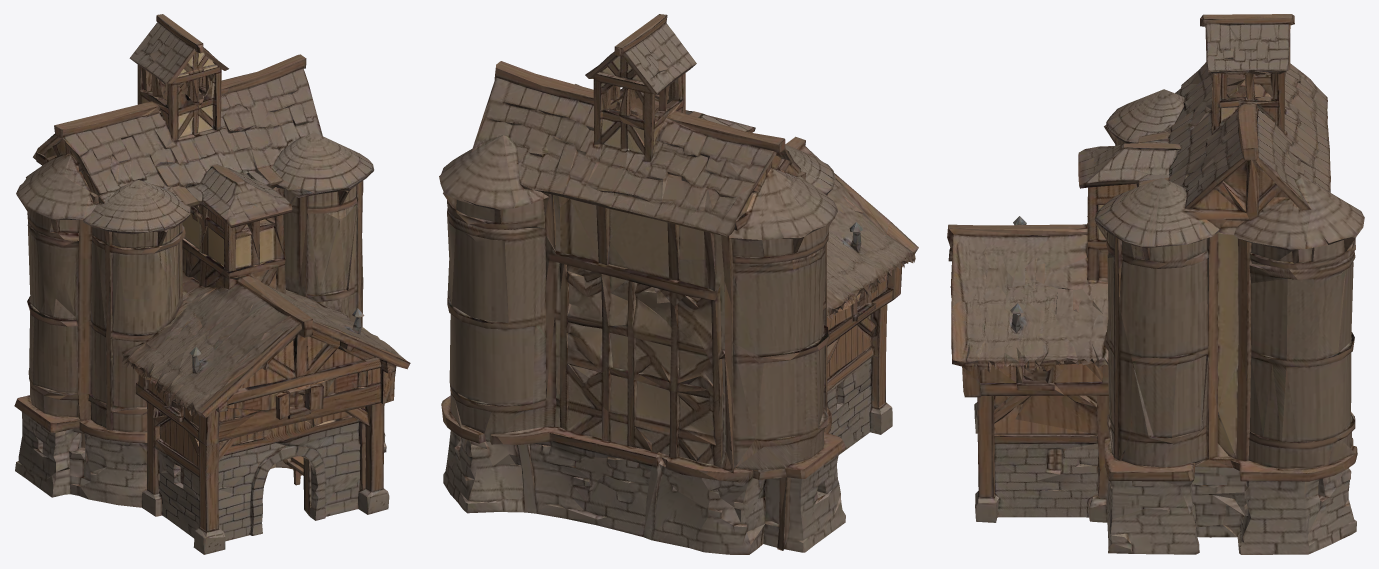
The model's file is farm.glb.
3 views of the same model, side by side, from view 1: azimuth 30°, elevation 25°; view 2: azimuth 150°, elevation 25°; view 3: azimuth 270°, elevation 25° (orthographic). The views are drawn at different scales.
Parts seen in each view (by area): view 1: output_unwrapped; view 2: output_unwrapped; view 3: output_unwrapped.
Boxes of the visible parts, <box> form: output_unwrapped: <box>14,14,410,554</box>; output_unwrapped: <box>439,14,918,554</box>; output_unwrapped: <box>947,14,1364,554</box>.
Bounding box in the file's own units: 1.47 × 1.9 × 1.57.
1 material, 1 textured.
